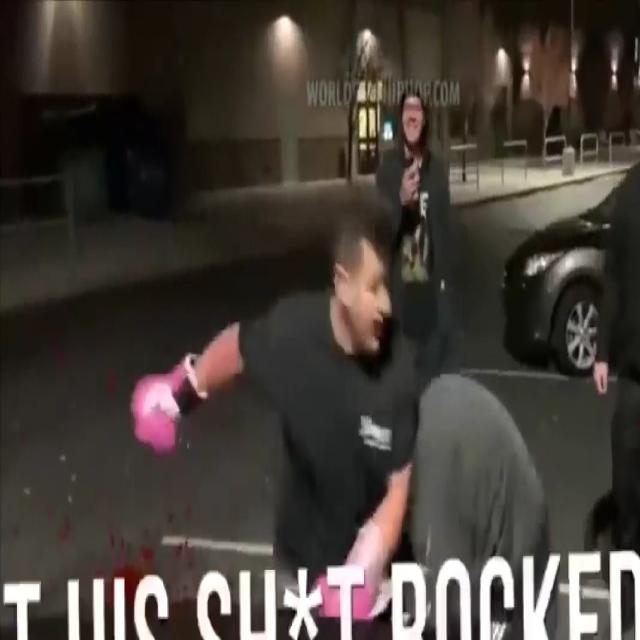non-violence: (589, 154, 640, 616), (379, 95, 451, 362)
violence: (130, 197, 550, 568)
